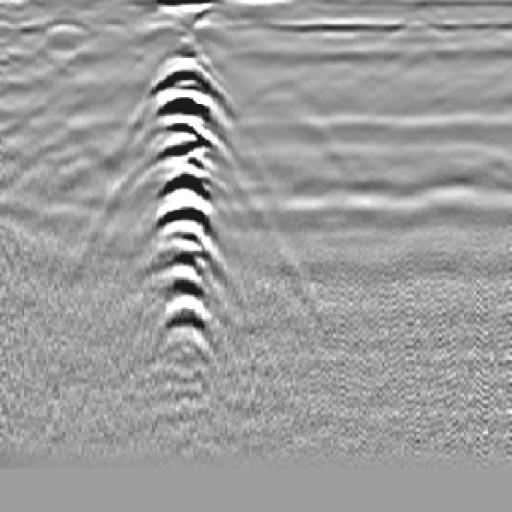metalic: (84, 22, 271, 368)
nonmetalic: (227, 56, 357, 207)
